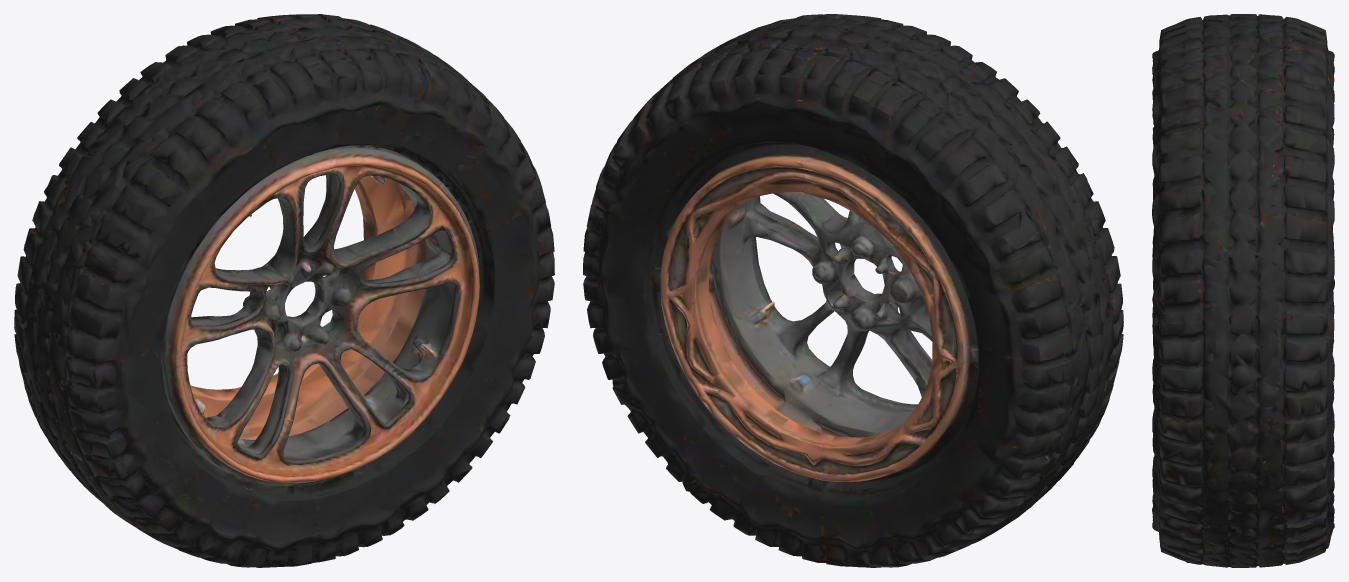
File: Meshy_AI_Copper_Trail_Wheel_0921075015_texture-optimized (1).glb
3 views of the same model, side by side, from view 1: azimuth 30°, elevation 25°; view 2: azimuth 150°, elevation 25°; view 3: azimuth 270°, elevation 25° (orthographic).
Size of the model in its own units: 1.9 by 1.9 by 0.6237.
1 material, 1 textured.
